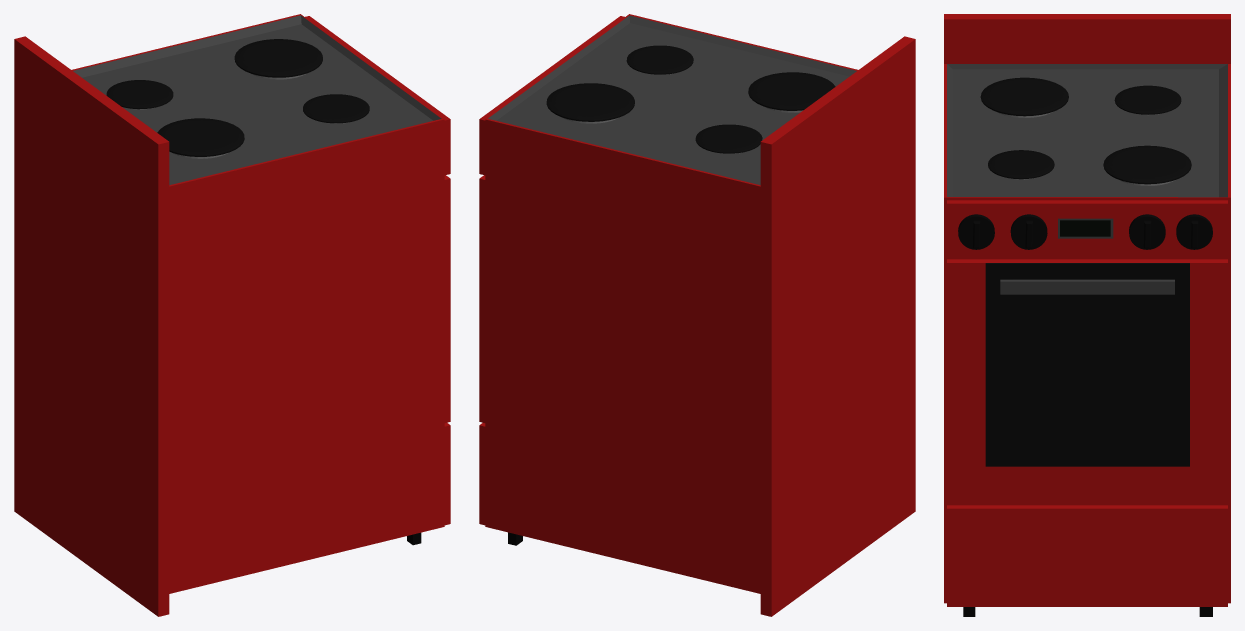
File: stove.fbx
3 views of the same model, side by side, from view 1: azimuth 30°, elevation 25°; view 2: azimuth 150°, elevation 25°; view 3: azimuth 270°, elevation 25° (orthographic).
Visible parts, largest first — view 1: stove (×2), Cylinder; view 2: stove (×2), Cylinder; view 3: stove (×4), Cylinder, buttons.
Boxes of the visible parts, x1,y1,x2,y2 form: stove (×2): (14,14,450,616); Cylinder: (106,39,369,156); stove (×2): (479,14,915,616); Cylinder: (546,45,835,153); stove (×4): (944,14,1230,606); Cylinder: (980,77,1191,184); buttons: (958,214,1212,249).
Bounding box in the file's own units: 251 × 369 × 204.
